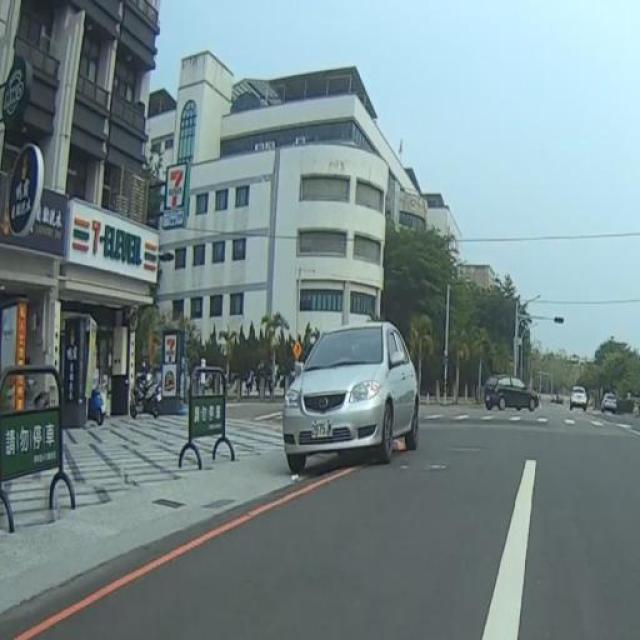illegalparking: (285, 317, 426, 477)
